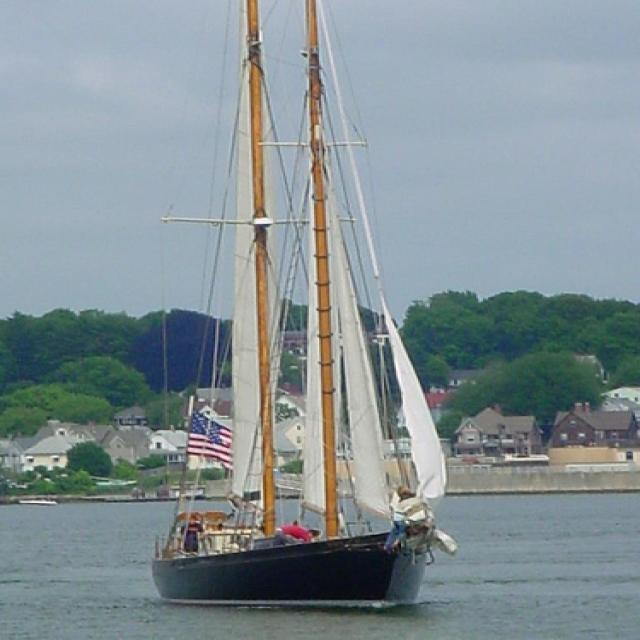Ship: (151, 3, 444, 602)
